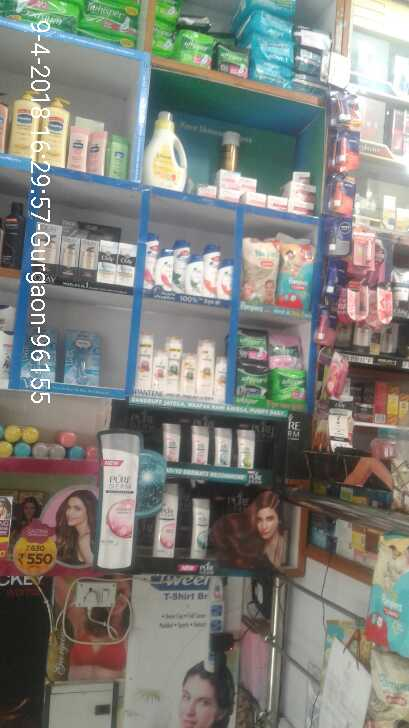venus: (63, 329, 101, 383), (28, 327, 54, 383)
